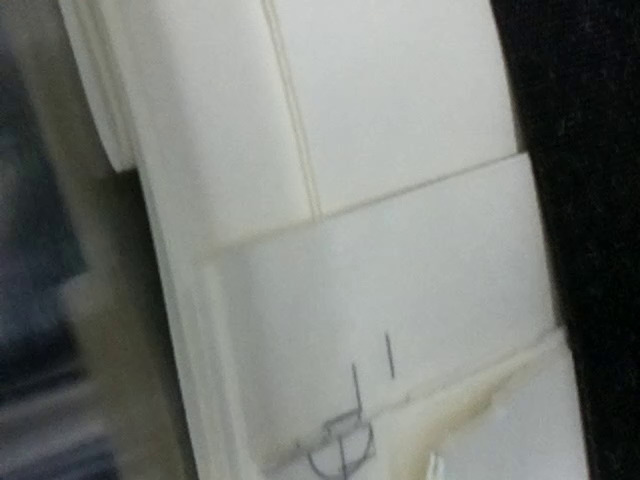misaligned: (263, 361, 384, 480)
